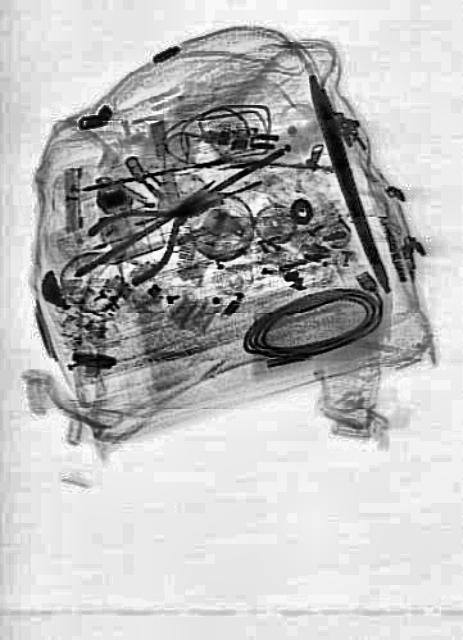Pliers: (84, 155, 230, 301)
